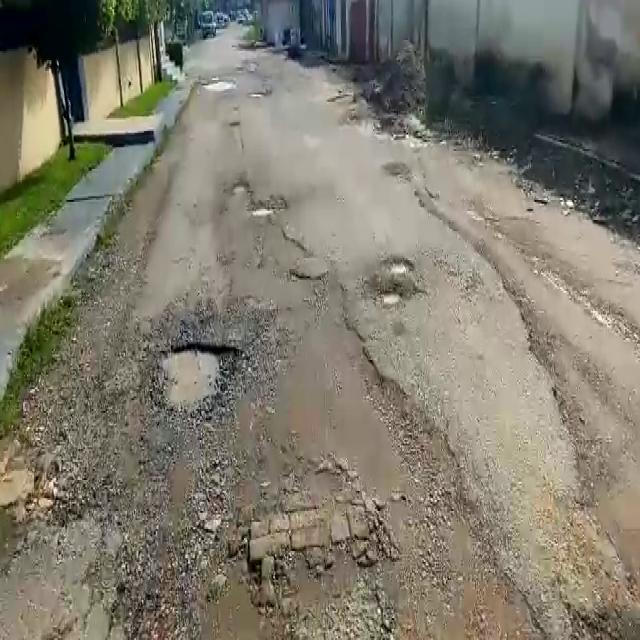Pothole: (153, 340, 243, 412), (248, 202, 286, 219), (386, 256, 416, 276), (381, 289, 403, 304), (230, 182, 250, 196)
